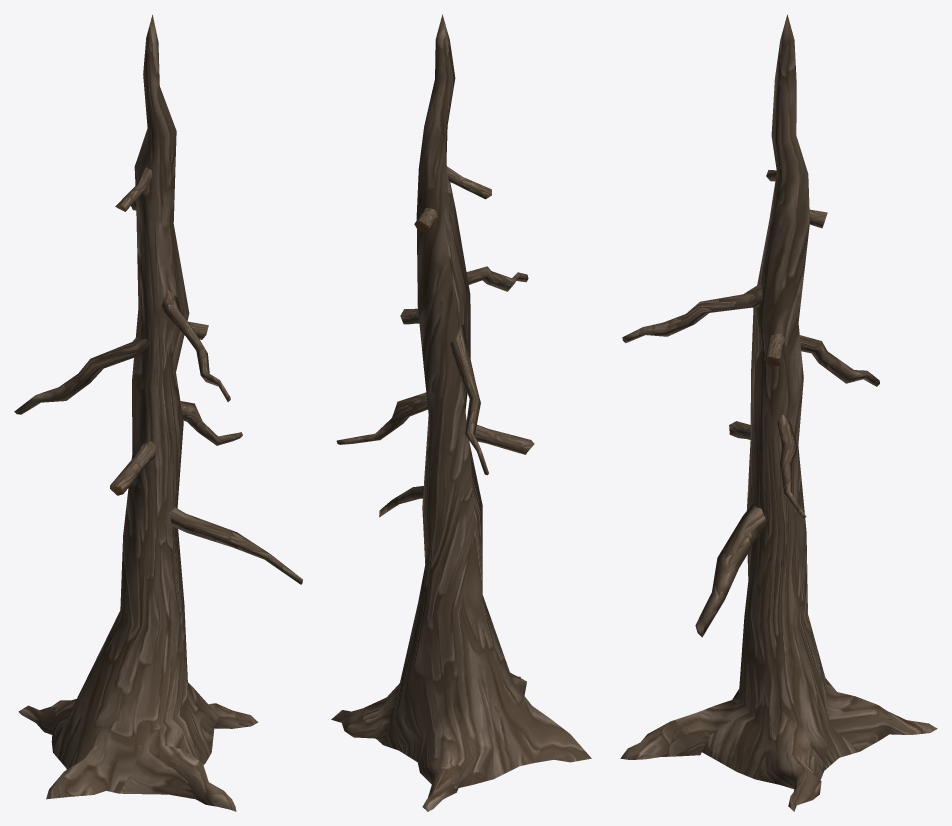
The model's file is Tree_kushu02.FBX.
3 views of the same model, side by side, from view 1: azimuth 30°, elevation 25°; view 2: azimuth 150°, elevation 25°; view 3: azimuth 270°, elevation 25° (orthographic).
Parts seen in each view (by area): view 1: Tree_kushu02; view 2: Tree_kushu02; view 3: Tree_kushu02.
Part boxes in pixels (bbox=[...]): Tree_kushu02: bbox=[14, 14, 302, 811]; Tree_kushu02: bbox=[331, 14, 591, 811]; Tree_kushu02: bbox=[620, 14, 937, 811].
Bounding box in the file's own units: 1.84 × 5.45 × 2.11.
